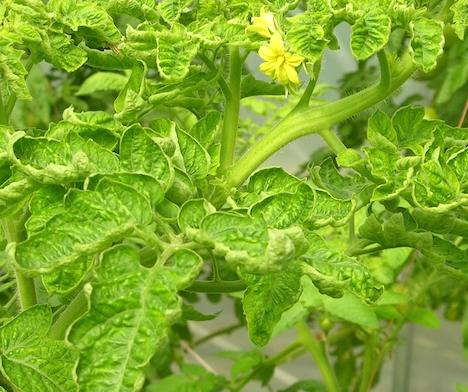Tomato leaf yellow virus: (67, 241, 199, 392), (11, 186, 149, 278), (244, 155, 359, 251), (176, 202, 274, 276), (92, 123, 182, 202), (158, 126, 221, 189), (46, 0, 128, 43), (394, 11, 441, 81), (342, 8, 396, 65), (151, 34, 209, 83)
